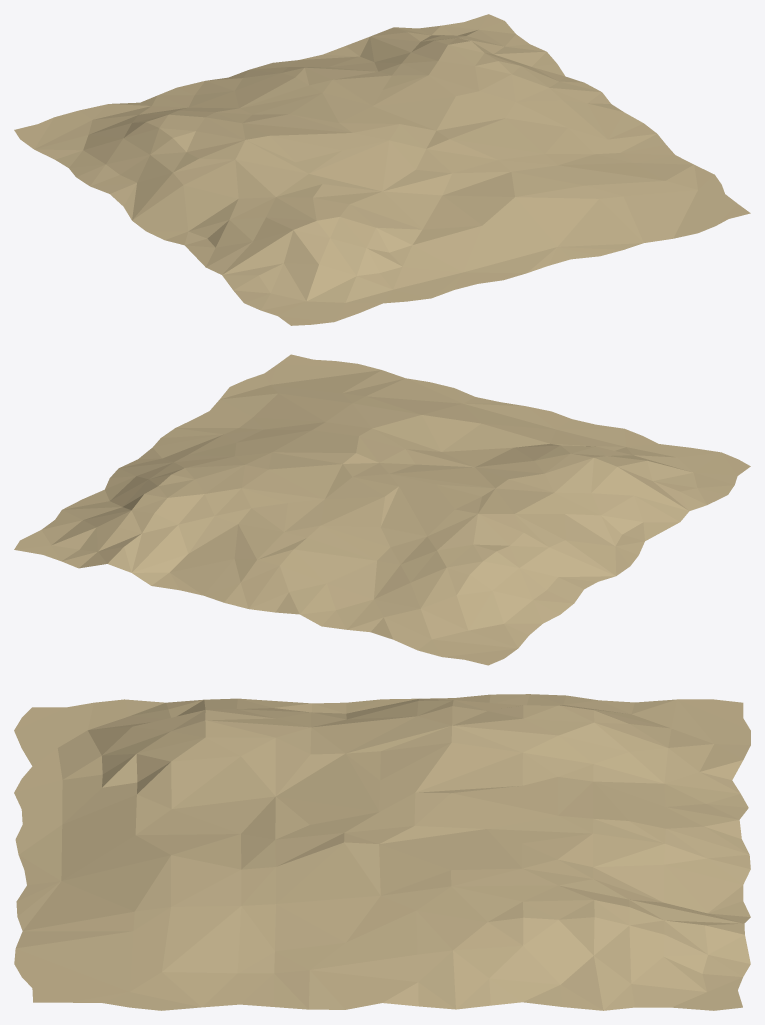
The model's file is Small Sand.fbx.
The picture shows the model from 3 angles, top to bottom: view 1: azimuth 30°, elevation 25°; view 2: azimuth 150°, elevation 25°; view 3: azimuth 270°, elevation 25°; orthographic projection. The views are drawn at different scales.
Visible parts, largest first — view 1: pPlane1; view 2: pPlane1; view 3: pPlane1.
Boxes of the visible parts, left/top/right/bottom form: pPlane1: left=14, top=14, right=750, bottom=325; pPlane1: left=14, top=354, right=750, bottom=665; pPlane1: left=14, top=694, right=750, bottom=1010.
Bounding box in the file's own units: 31.11 × 2.54 × 31.11.
